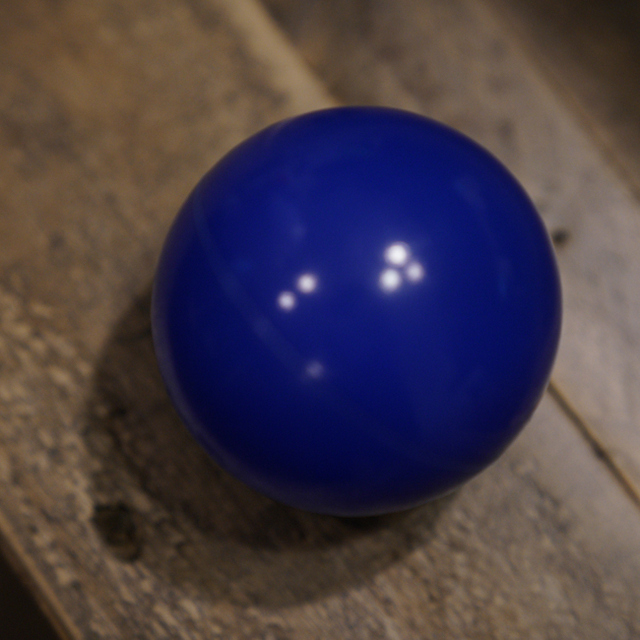Ball: (155, 106, 563, 522)
